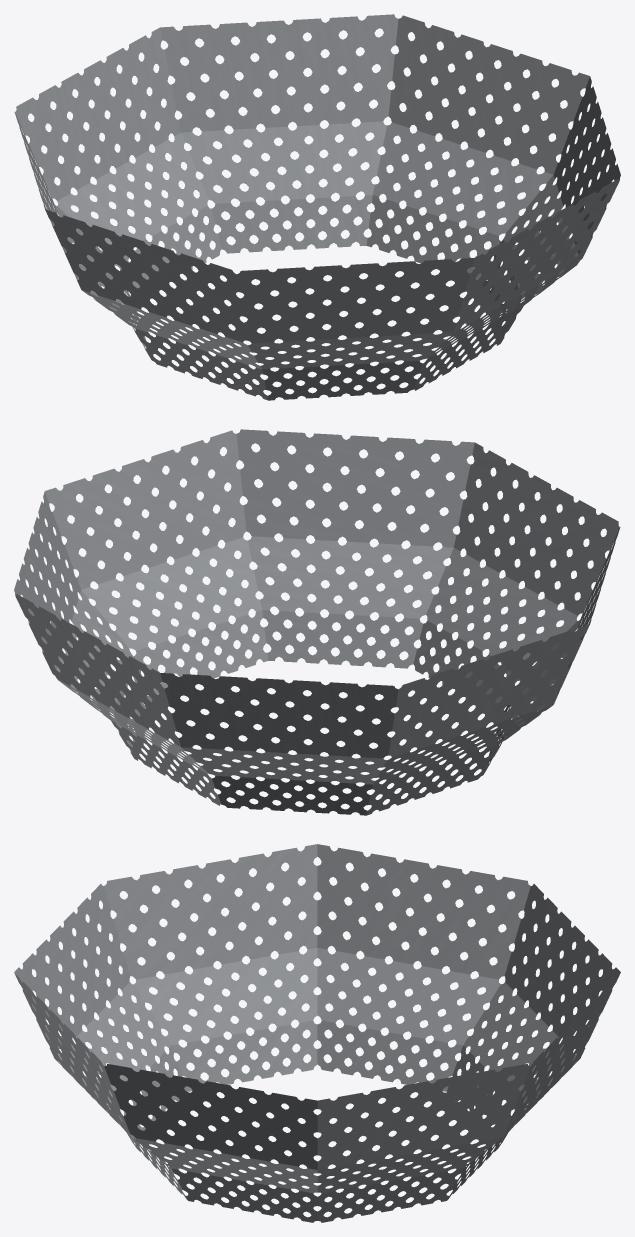
3 renders of one model, top to bottom at view 1: azimuth 30°, elevation 25°; view 2: azimuth 150°, elevation 25°; view 3: azimuth 270°, elevation 25°, orthographic. The views are drawn at different scales.
Bounding box in the file's own units: 0.1828 × 0.0579 × 0.1828.
1 material, 1 textured.
